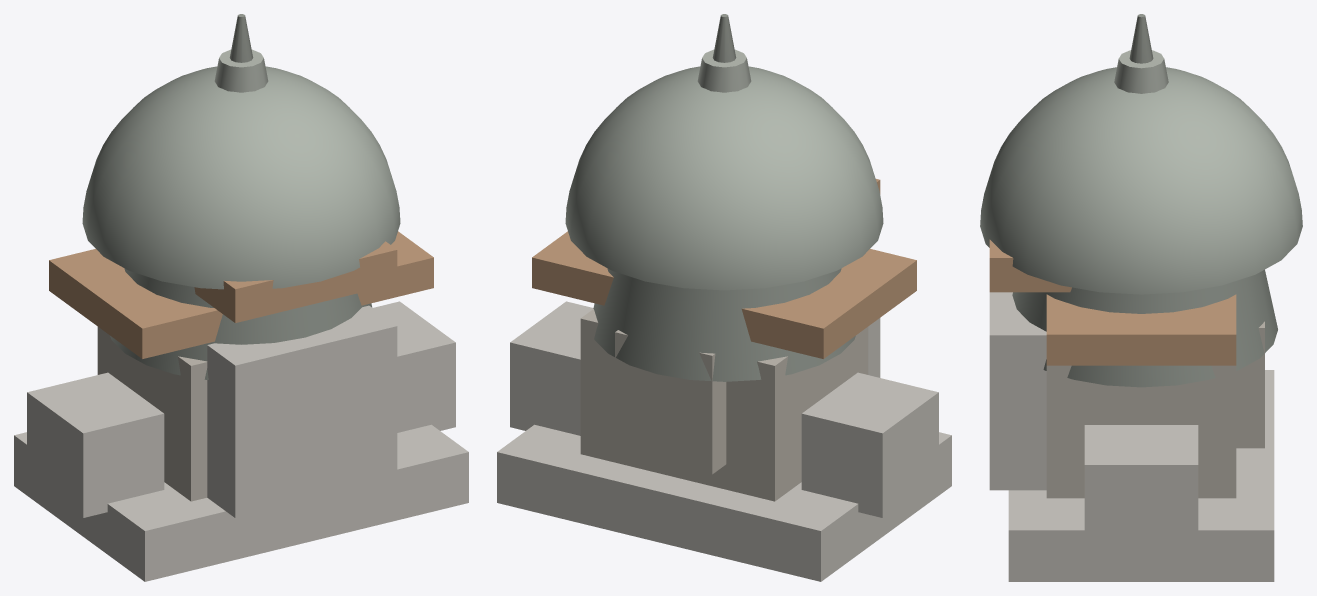
The model's file is duomo.glb.
The picture shows the model from 3 angles, left to right: view 1: azimuth 30°, elevation 25°; view 2: azimuth 150°, elevation 25°; view 3: azimuth 270°, elevation 25°; orthographic projection.
Size of the model in its own units: 2.3 by 2.83 by 1.7.
